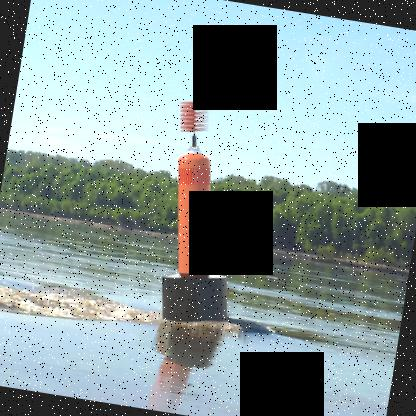Buoy: (150, 142, 258, 326)
